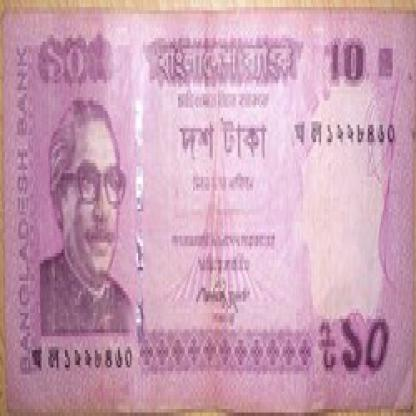Ten Taka: (336, 305, 398, 385), (45, 38, 91, 97), (324, 38, 374, 90)
